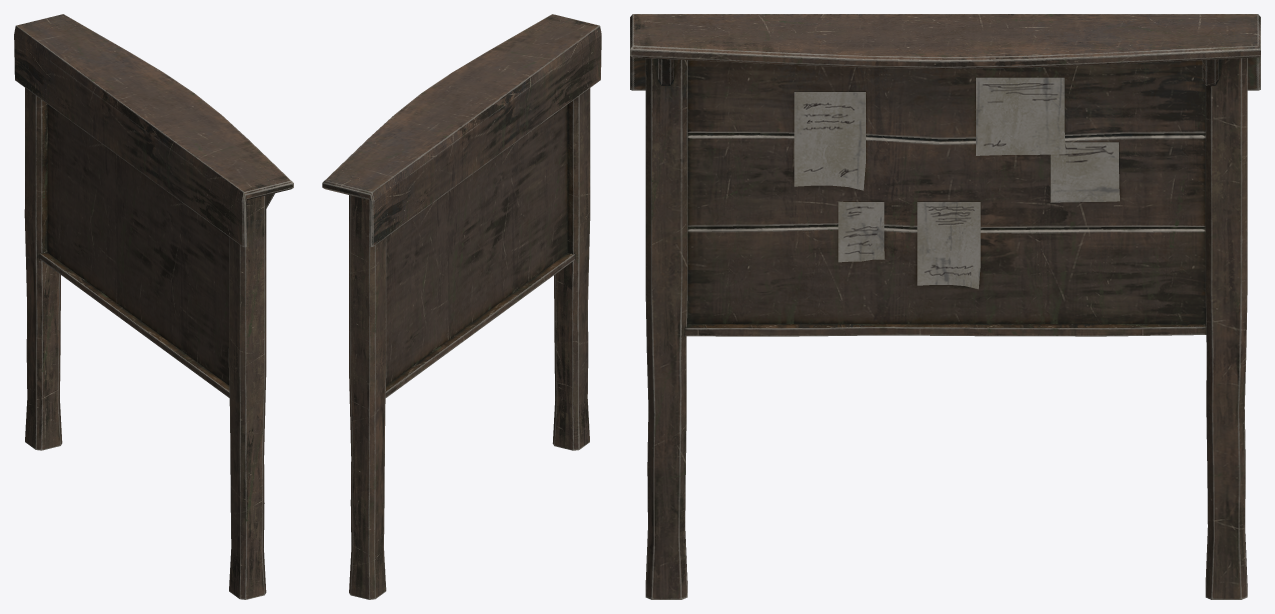
The model's file is notice_board_low-poly.glb.
3 views of the same model, side by side, from view 1: azimuth 30°, elevation 25°; view 2: azimuth 150°, elevation 25°; view 3: azimuth 270°, elevation 25° (orthographic). The views are drawn at different scales.
Parts seen in each view (by area): view 1: Cube; view 2: Cube; view 3: Cube.
Part boxes in pixels (x1,y1,x2,y2): Cube: [14, 14, 293, 599]; Cube: [322, 14, 601, 599]; Cube: [630, 14, 1260, 599].
Size of the model in its own units: 0.4733 by 2.73 by 2.76.
Materials: 1 (1 with a texture image).
